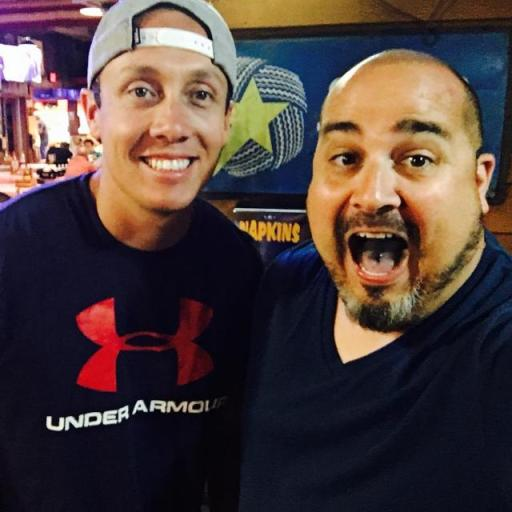Under Armour: (68, 295, 216, 390)
